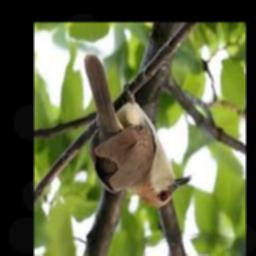Cuckoo: (85, 54, 191, 209)
